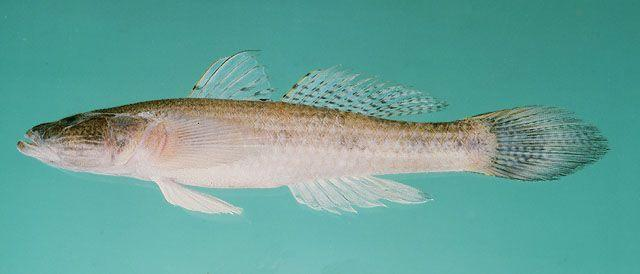Goby: (16, 47, 611, 217)
